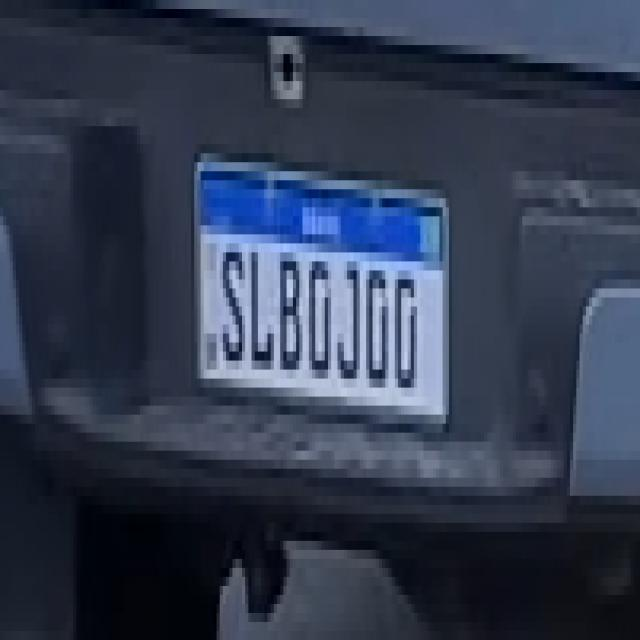Placa_mercosul_carro: (193, 143, 454, 429)
